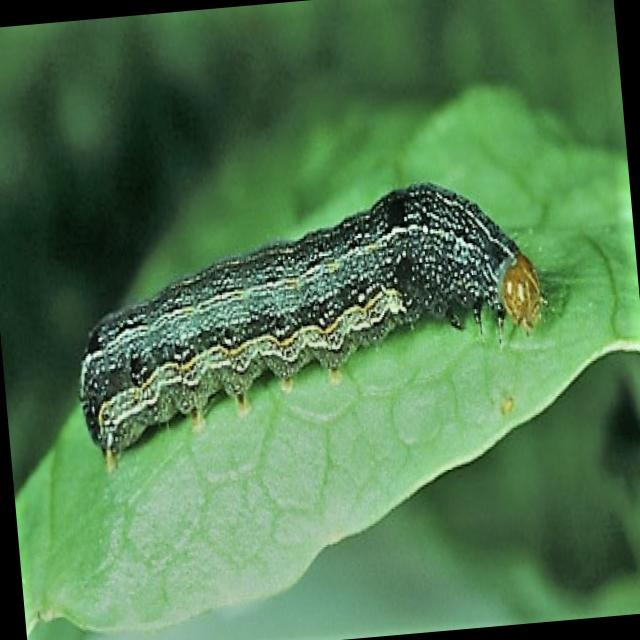Armyworm: (35, 166, 557, 488)
